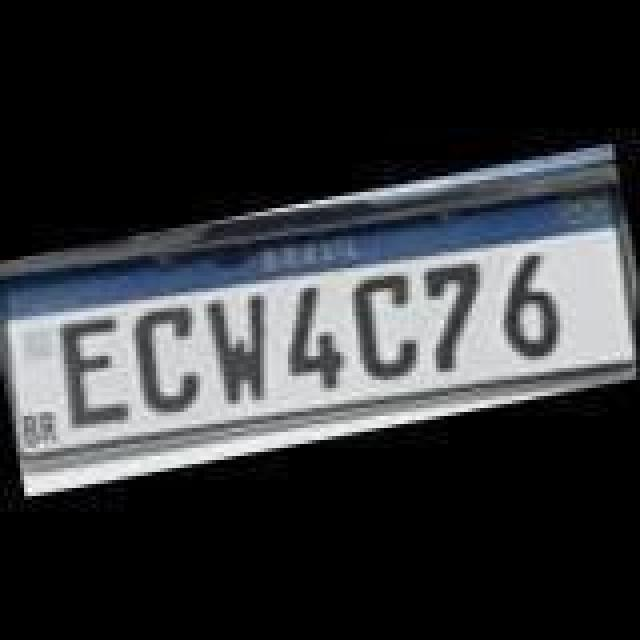4: (270, 278, 350, 394)
6: (484, 240, 568, 368)
7: (410, 250, 498, 374)
C: (120, 290, 212, 414)
D: (338, 262, 426, 386)
E: (52, 306, 136, 430)
W: (202, 280, 290, 408)
